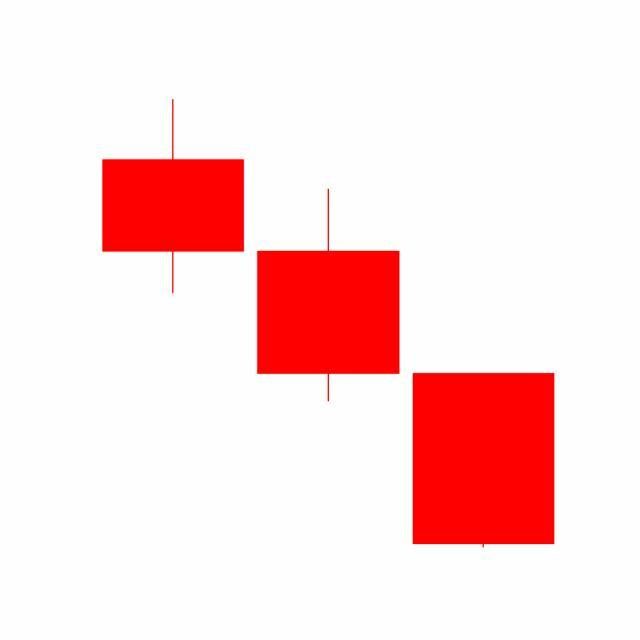Marubozu: (406, 372, 562, 551)
